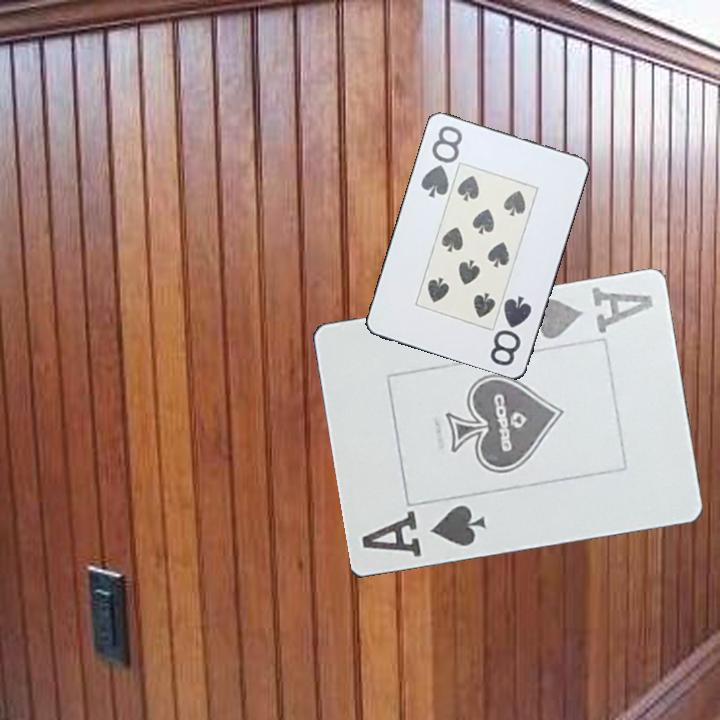8s: (418, 122, 466, 201), (487, 292, 535, 369)
As: (523, 283, 656, 343), (357, 502, 490, 561)
